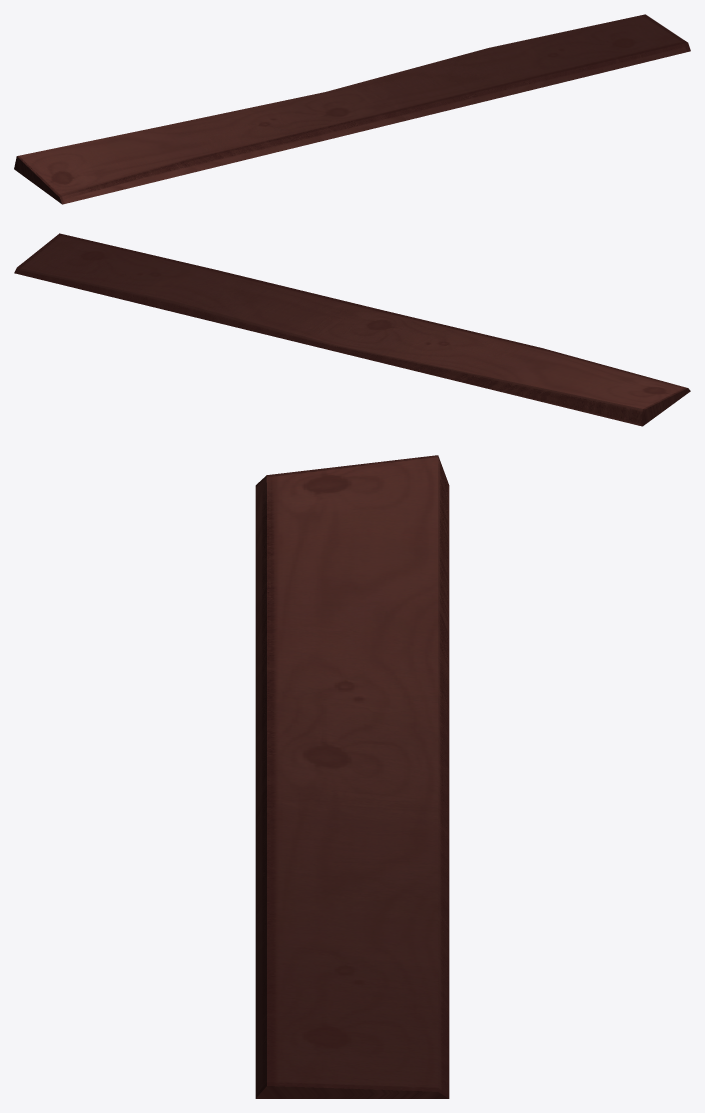
The model's file is plank.fbx.
3 views of the same model, one above another, from view 1: azimuth 30°, elevation 25°; view 2: azimuth 150°, elevation 25°; view 3: azimuth 270°, elevation 25° (orthographic). The views are drawn at different scales.
Visible parts, largest first — view 1: Plane.001; view 2: Plane.001; view 3: Plane.001.
Part boxes in pixels (left/top/right/bottom): Plane.001: left=14, top=14, right=690, bottom=204; Plane.001: left=14, top=233, right=690, bottom=426; Plane.001: left=255, top=455, right=449, bottom=1098.
Size of the model in its own units: 665 by 15.27 by 88.67.
1 material, 1 textured.
